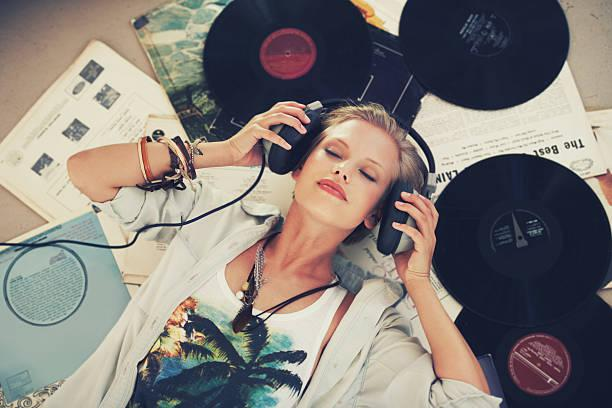headphone: (266, 107, 426, 257)
